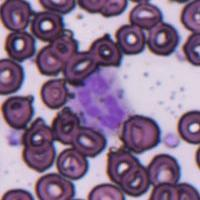N: (75, 70, 129, 134)
